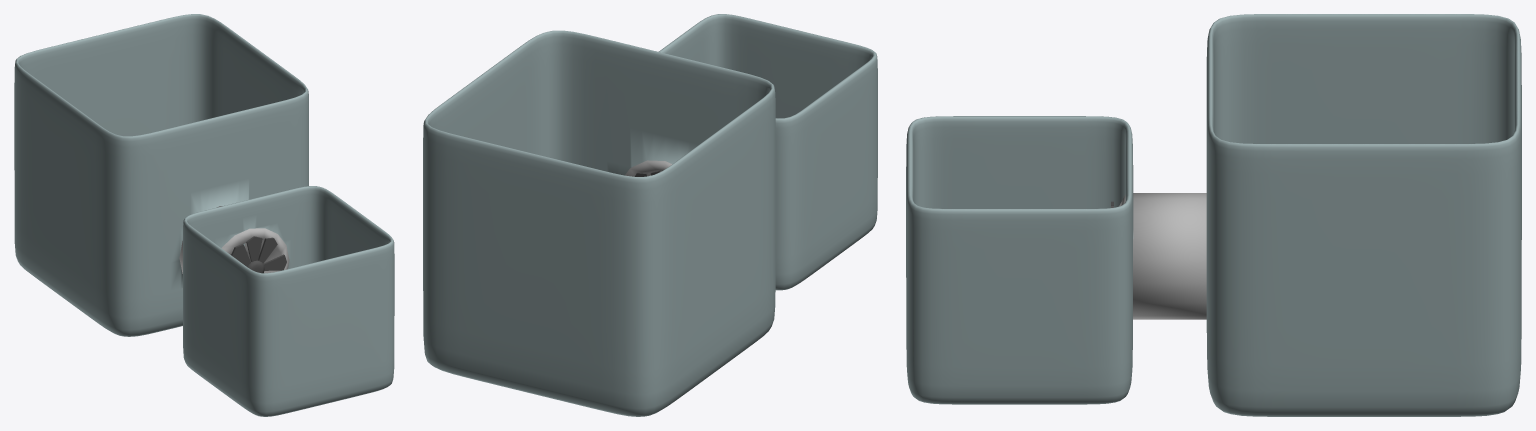
File: prototype.glb
3 views of the same model, side by side, from view 1: azimuth 30°, elevation 25°; view 2: azimuth 150°, elevation 25°; view 3: azimuth 270°, elevation 25° (orthographic). The views are drawn at different scales.
Visible parts, largest first — view 1: Cube, Cube.001, Plane.001, Cylinder; view 2: Cube, Cube.001, Cylinder; view 3: Cube, Cube.001, Cylinder.
Part boxes in pixels (<box>): Cube: <box>14,14,308,336</box>; Cube.001: <box>183,186,394,416</box>; Plane.001: <box>231,236,286,270</box>; Cylinder: <box>179,206,289,273</box>; Cube: <box>423,30,775,416</box>; Cube.001: <box>658,14,877,290</box>; Cylinder: <box>625,160,672,176</box>; Cube: <box>1206,14,1521,416</box>; Cube.001: <box>906,116,1133,404</box>; Cylinder: <box>1119,193,1206,319</box>.
Size of the model in its own units: 2.05 by 2.05 by 4.
